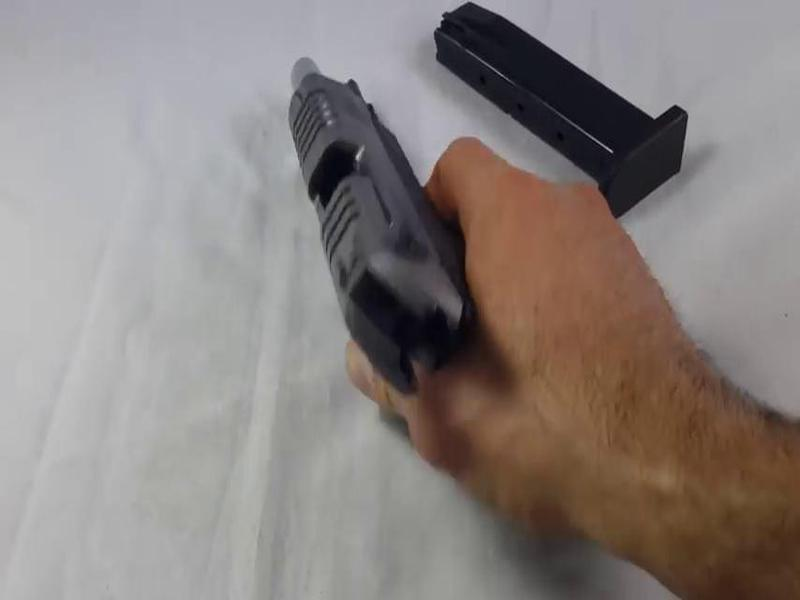Pistola: (270, 29, 512, 410)
